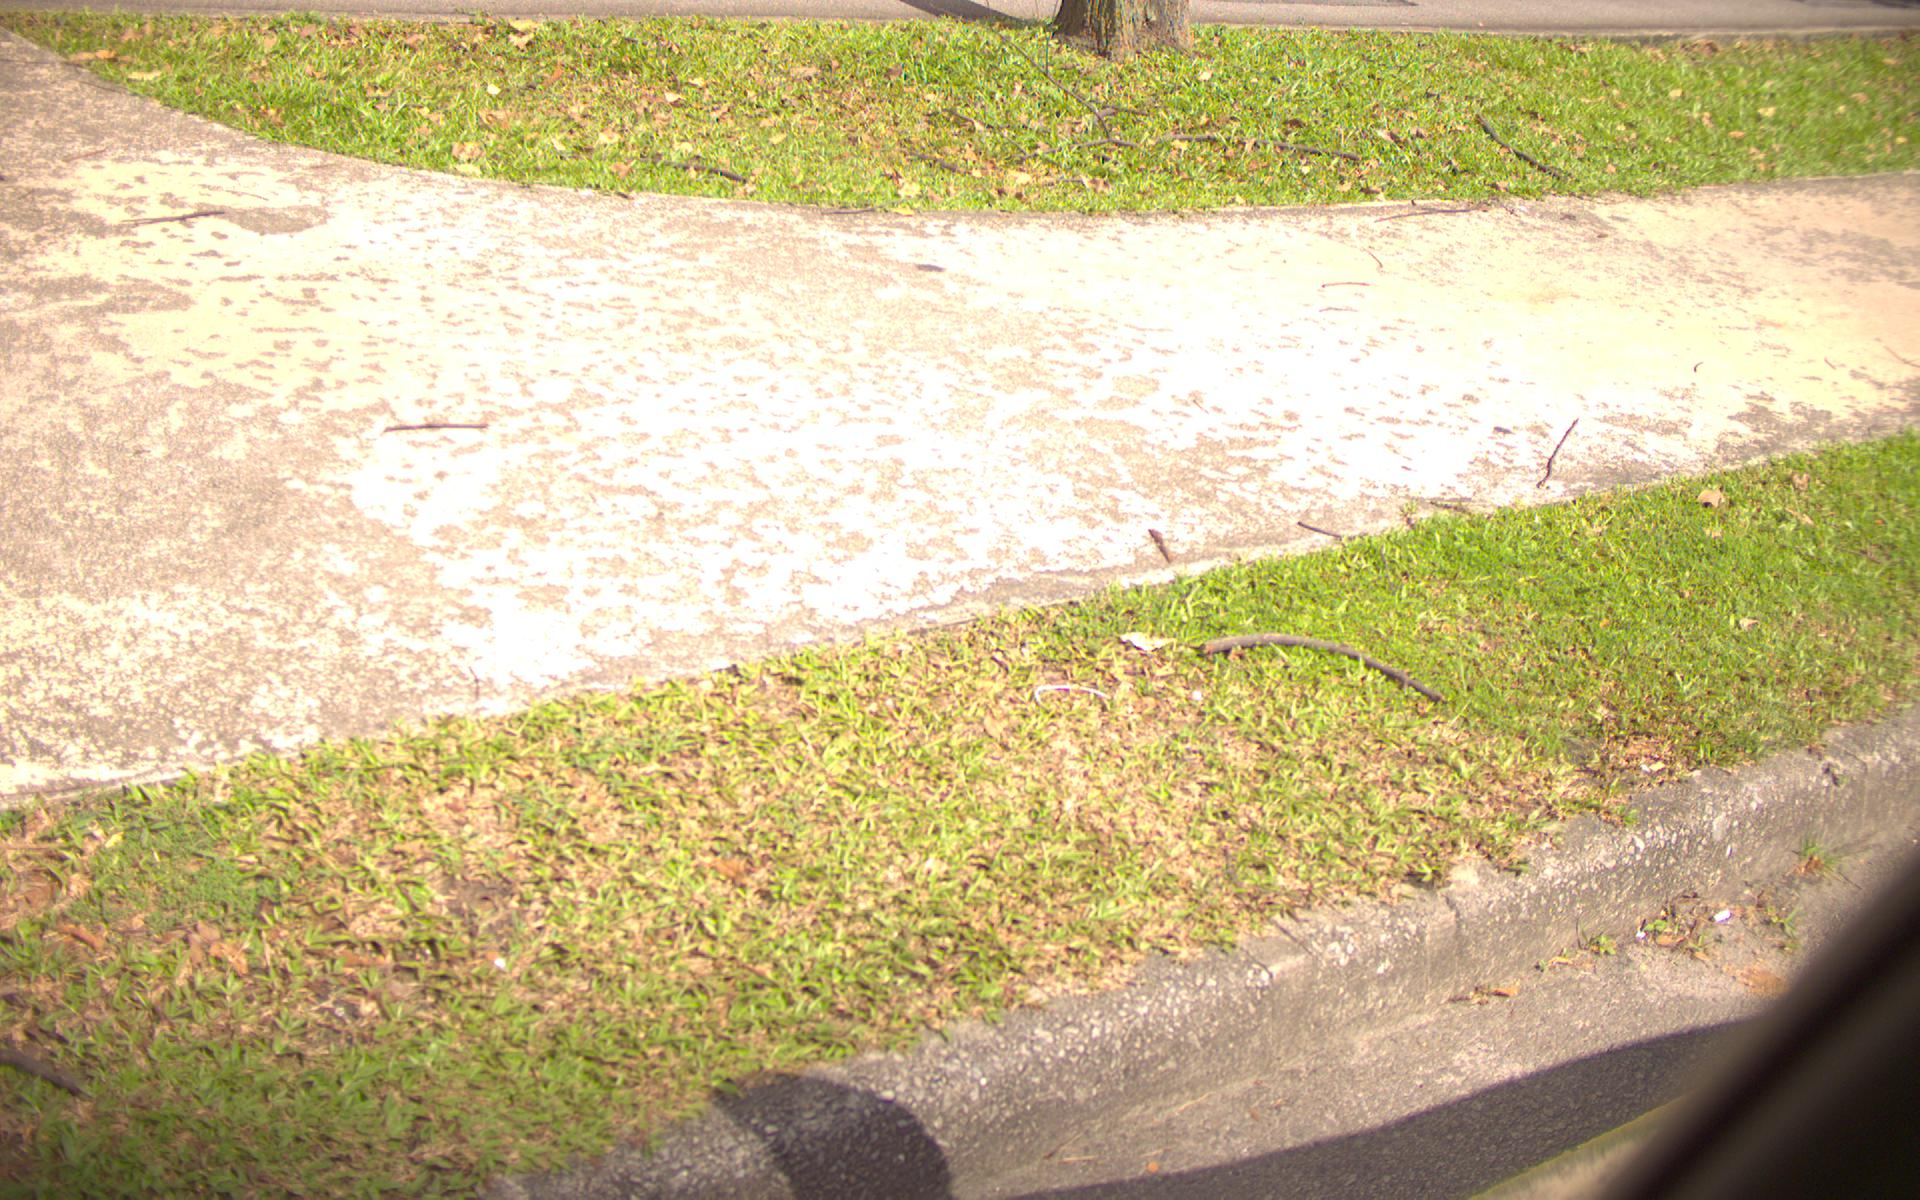pathway_low: (57, 212, 1914, 434)
road_curb_low: (1204, 1073, 1700, 1200)
road_turf_low: (66, 805, 798, 1076), (836, 653, 1503, 853)
